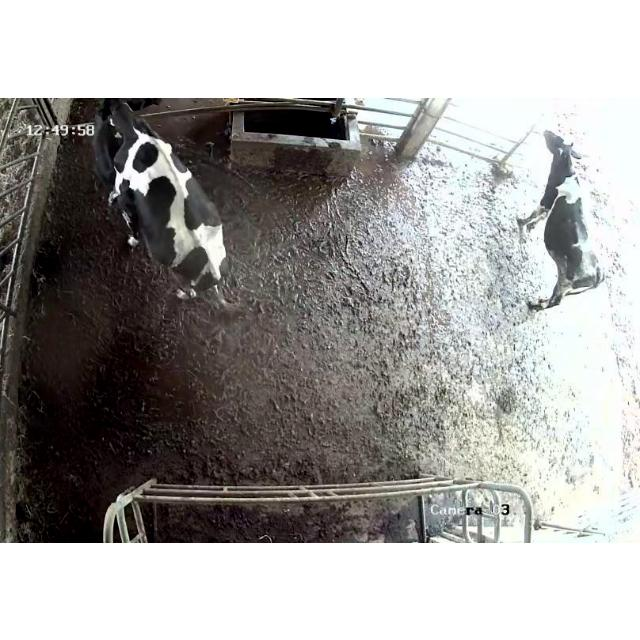ride: (105, 102, 245, 314)
